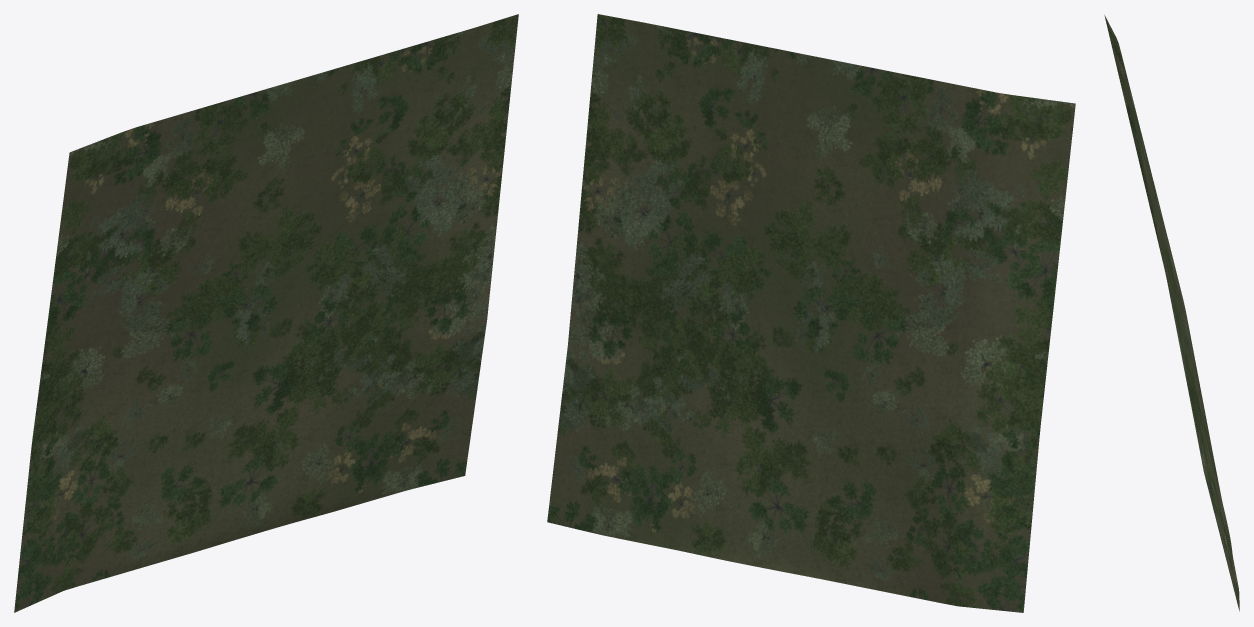
File: terrain_core_07_02.obj
3 renders of one model, left to right at view 1: azimuth 30°, elevation 25°; view 2: azimuth 150°, elevation 25°; view 3: azimuth 270°, elevation 25°, orthographic. The views are drawn at different scales.
Parts seen in each view (by area): view 1: terrain_core_07_02; view 2: terrain_core_07_02; view 3: terrain_core_07_02.
Boxes of the visible parts, x1,y1,x2,y2 form: terrain_core_07_02: (14, 14, 518, 612); terrain_core_07_02: (547, 14, 1075, 612); terrain_core_07_02: (1104, 15, 1239, 611).
Size of the model in its own units: 32 by 32 by 9.63.
Materials: 1 (1 with a texture image).
